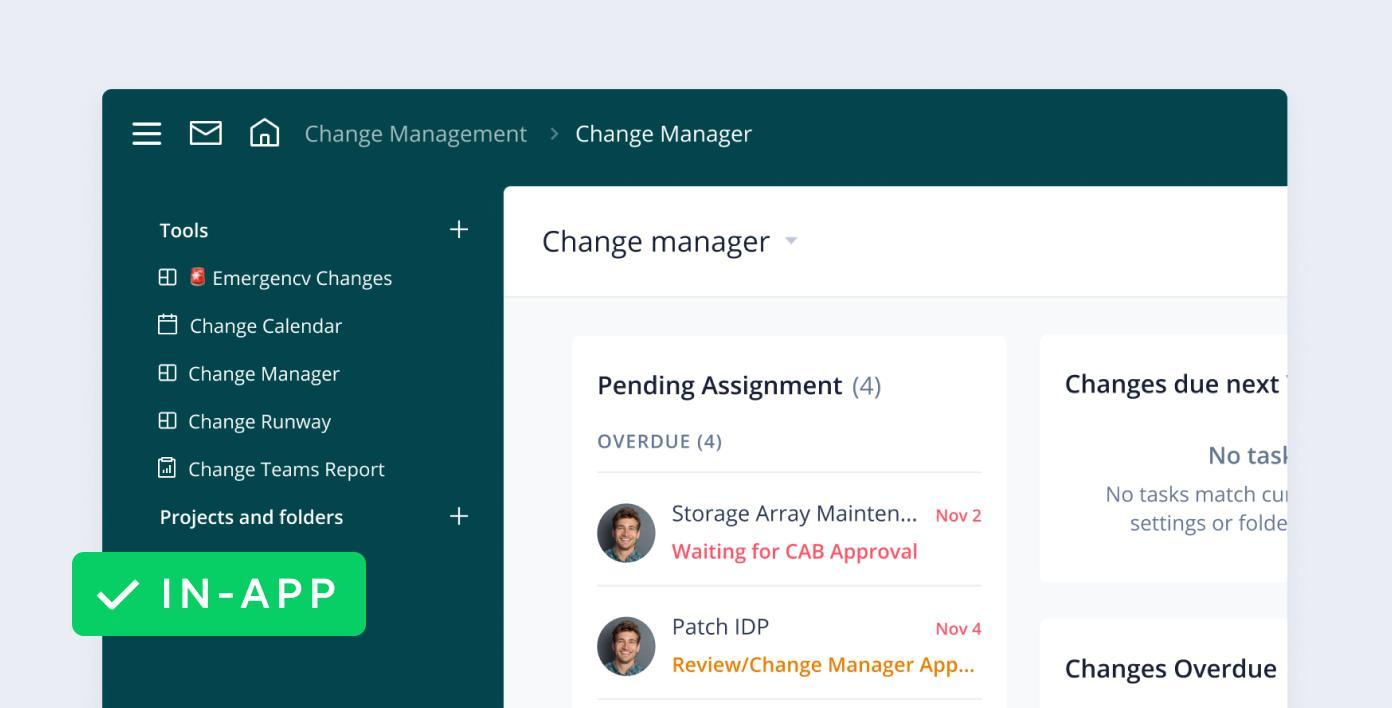button: (73, 554, 369, 638)
icon: (127, 113, 171, 155), (247, 114, 286, 155), (189, 116, 228, 153), (445, 215, 476, 245), (155, 453, 181, 483), (156, 360, 183, 388), (155, 310, 181, 339), (447, 503, 473, 531), (156, 266, 181, 293), (156, 410, 183, 435)
label: (160, 502, 349, 539), (192, 263, 397, 292), (190, 461, 393, 483), (187, 409, 338, 438), (189, 363, 343, 391), (190, 313, 344, 339)
